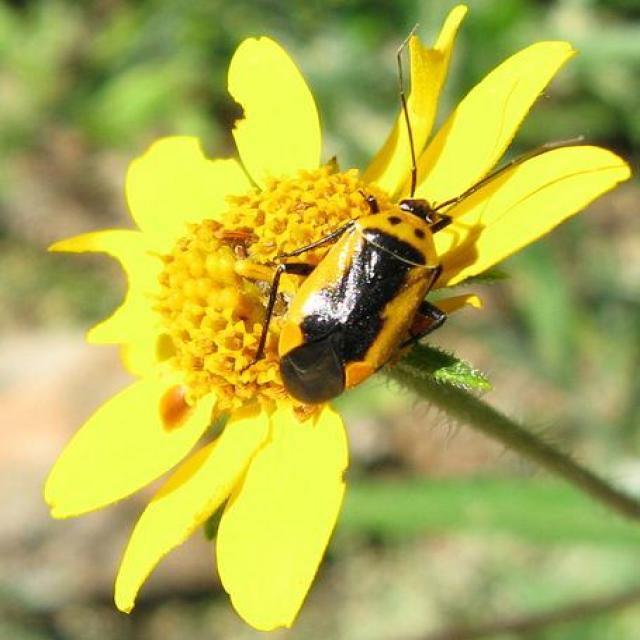Miridae-Adult-: (234, 15, 554, 440)
